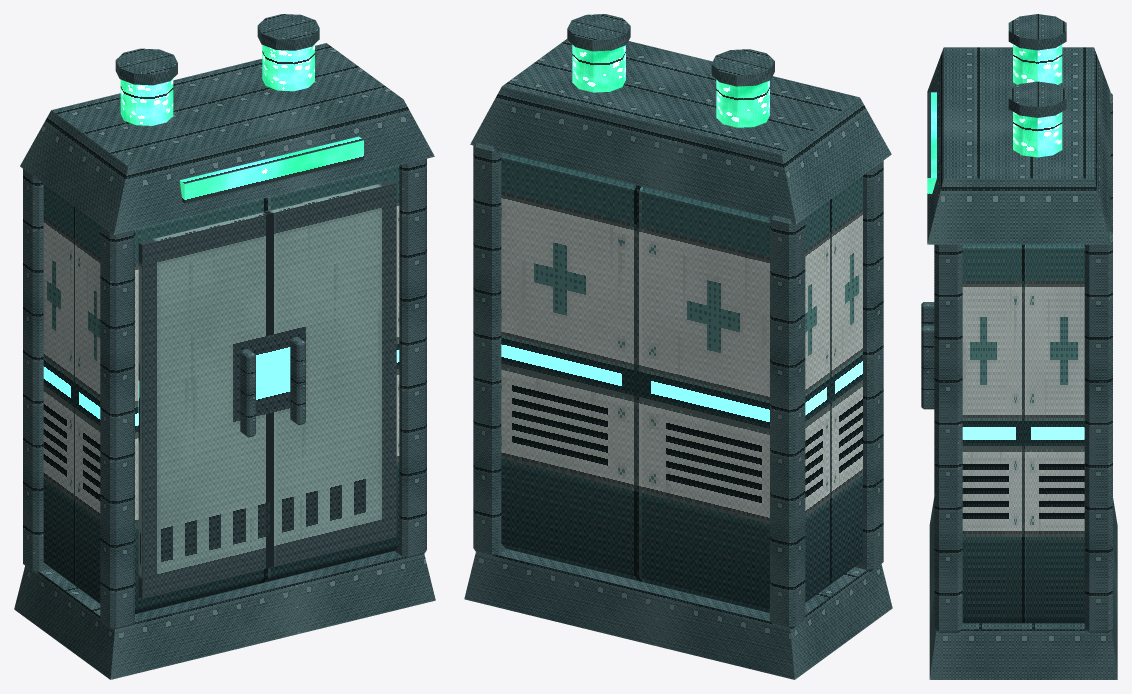
File: bio_cabinet.glb
The picture shows the model from 3 angles, left to right: view 1: azimuth 30°, elevation 25°; view 2: azimuth 150°, elevation 25°; view 3: azimuth 270°, elevation 25°; orthographic projection. The views are drawn at different scales.
Visible parts, largest first — view 1: bio_cabinet__hosp_metal_trim, bio_cabinet__hosp_door_airlock, bio_cabinet__hosp_wall_main, bio_cabinet__hosp_bio_glass; view 2: bio_cabinet__hosp_wall_main, bio_cabinet__hosp_metal_trim, bio_cabinet__hosp_bio_glass; view 3: bio_cabinet__hosp_metal_trim, bio_cabinet__hosp_wall_main, bio_cabinet__hosp_bio_glass.
Boxes of the visible parts, x1,y1,x2,y2 form: bio_cabinet__hosp_metal_trim: [14, 14, 435, 679]; bio_cabinet__hosp_door_airlock: [138, 180, 396, 598]; bio_cabinet__hosp_wall_main: [43, 165, 399, 613]; bio_cabinet__hosp_bio_glass: [120, 44, 363, 203]; bio_cabinet__hosp_wall_main: [501, 153, 862, 612]; bio_cabinet__hosp_metal_trim: [464, 14, 892, 679]; bio_cabinet__hosp_bio_glass: [572, 44, 769, 127]; bio_cabinet__hosp_metal_trim: [921, 14, 1117, 679]; bio_cabinet__hosp_wall_main: [962, 244, 1084, 623]; bio_cabinet__hosp_bio_glass: [927, 44, 1062, 196].
Bounding box in the file's own units: 1.56 × 2.55 × 0.835.
Materials: 4 (4 with a texture image).
